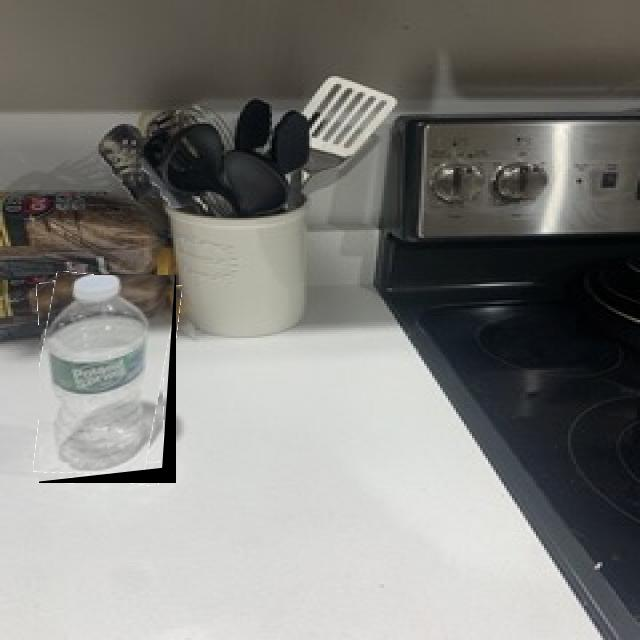water_bottle: (39, 275, 176, 483), (40, 277, 173, 482)
